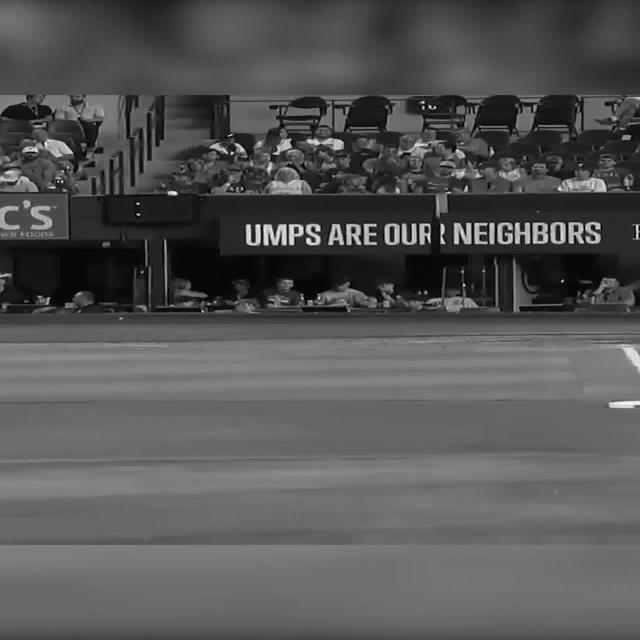base: (608, 397, 640, 408)
